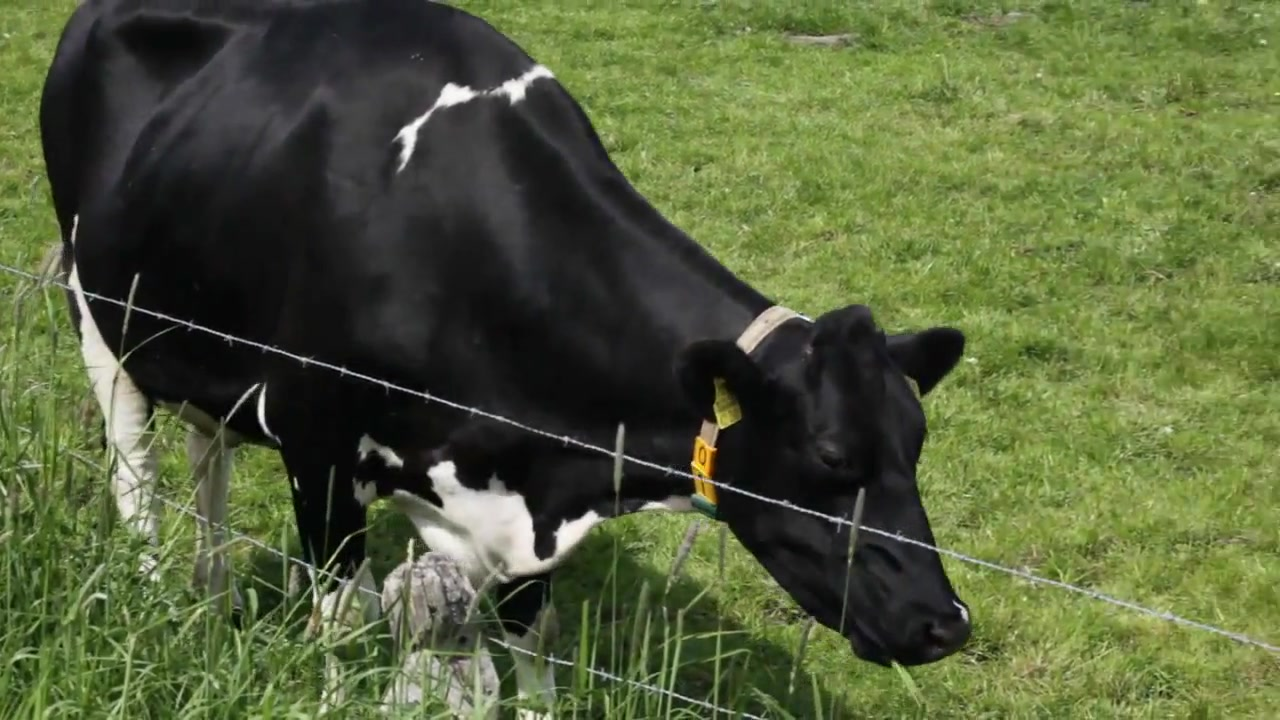cow: (40, 2, 973, 720)
